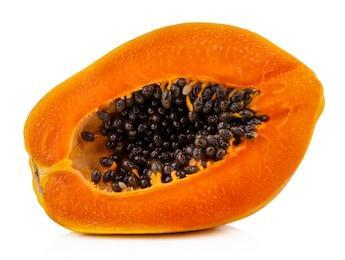papaya: (22, 22, 326, 236)
